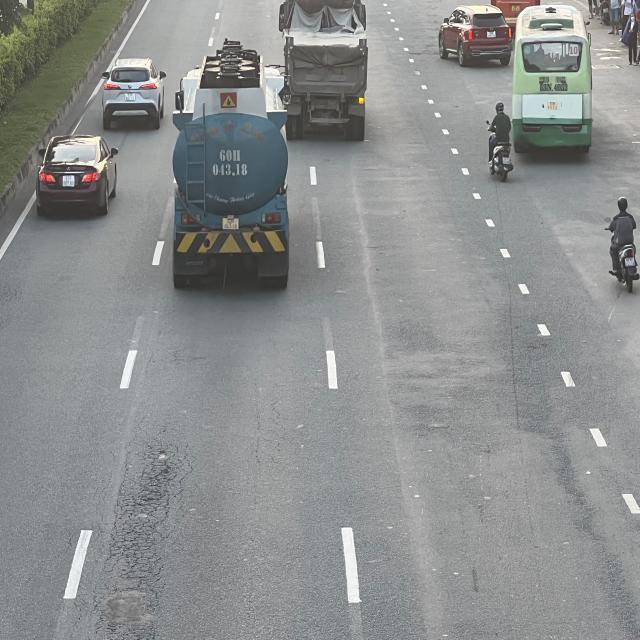car: (39, 136, 122, 218), (102, 58, 165, 127), (442, 10, 518, 64)
coach: (516, 7, 595, 155)
container: (167, 42, 285, 292), (281, 2, 370, 144)
